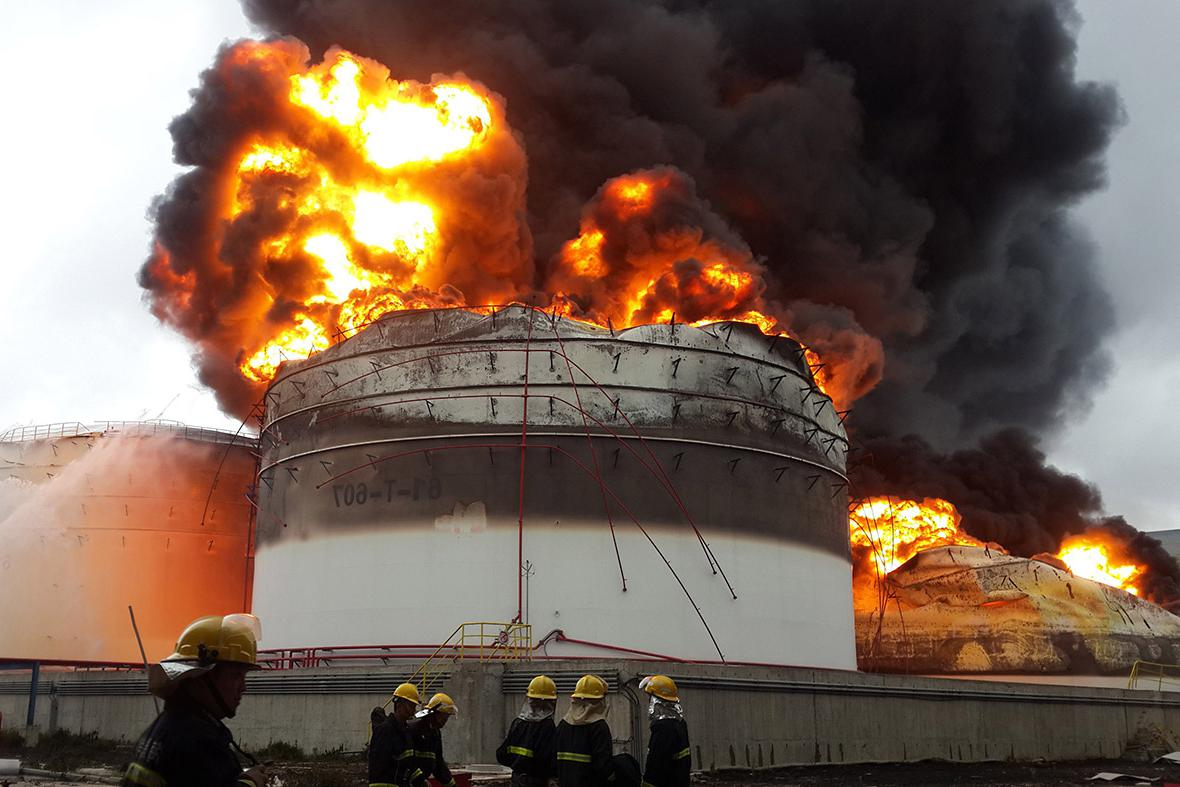fire: (136, 21, 532, 381), (562, 159, 873, 401), (837, 477, 1011, 582), (1049, 520, 1153, 622)
